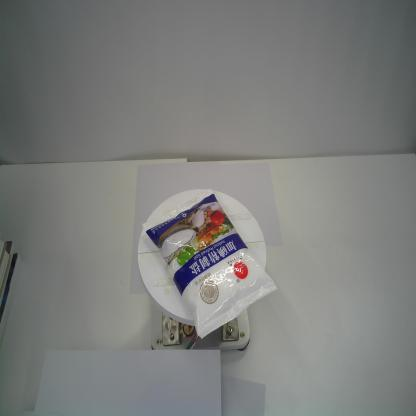Seasoner: (142, 187, 279, 339)
